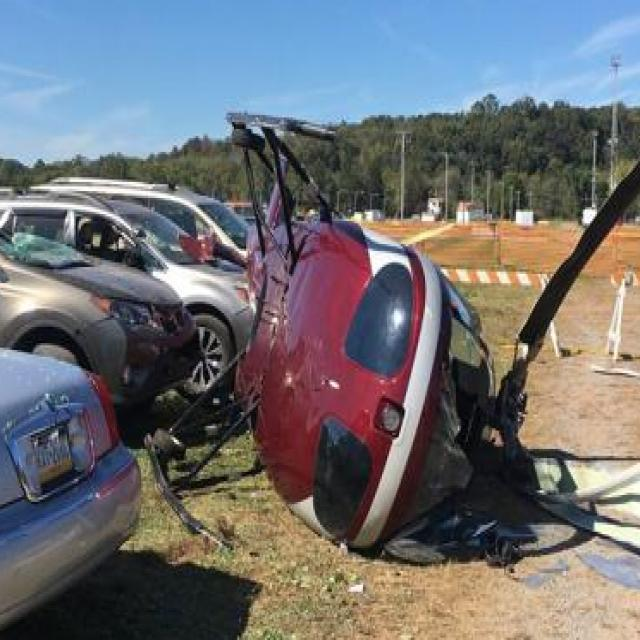helicopter: (149, 82, 640, 577)
